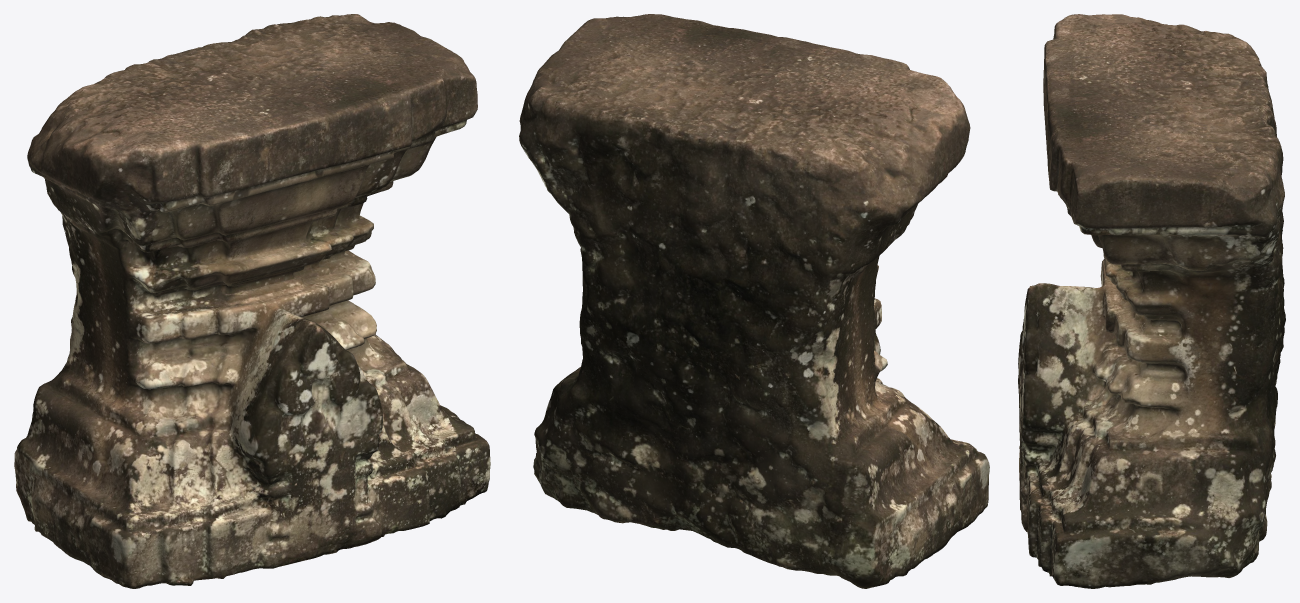
Rendered from 05_MysonSanctuaryD_VatTrangTriChanTuong_final.glb.
The picture shows the model from 3 angles, left to right: view 1: azimuth 30°, elevation 25°; view 2: azimuth 150°, elevation 25°; view 3: azimuth 270°, elevation 25°; orthographic projection. The views are drawn at different scales.
Size of the model in its own units: 1 by 1.08 by 0.6287.
1 material, 1 textured.
